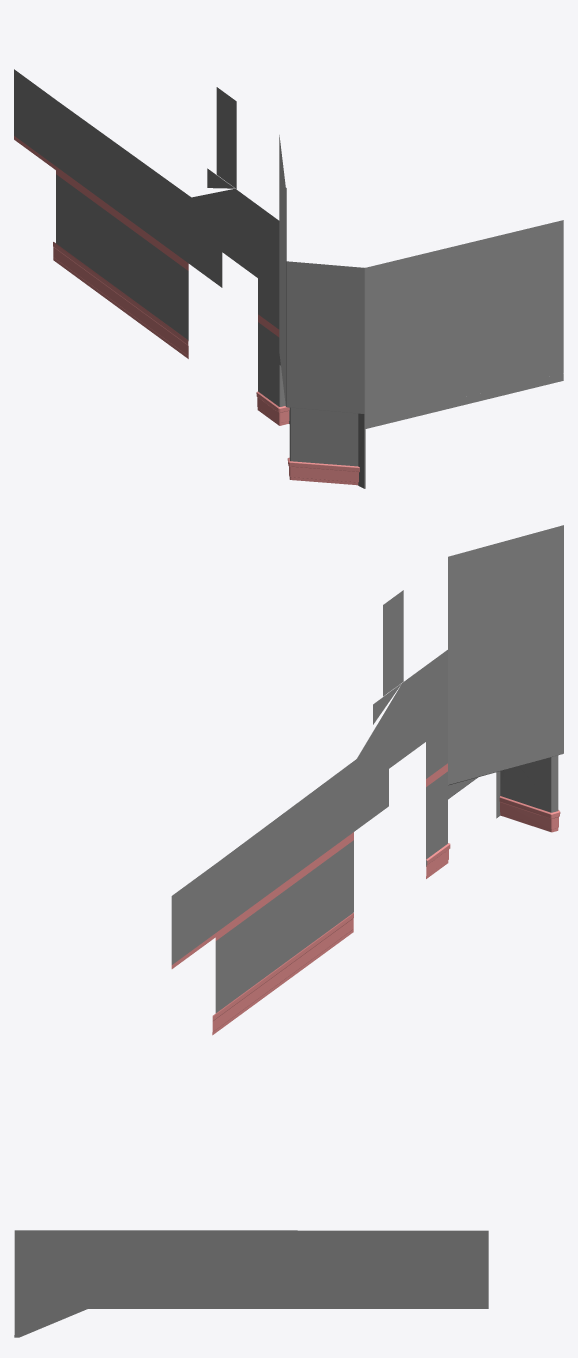
Rendered from S_Envi_Umeda_Building_20a.gltf.
3 renders of one model, top to bottom at view 1: azimuth 30°, elevation 25°; view 2: azimuth 150°, elevation 25°; view 3: azimuth 270°, elevation 25°, orthographic. The views are drawn at different scales.
Visible parts, largest first — view 1: S_Envi_Umeda_Building_20a; view 2: S_Envi_Umeda_Building_20a; view 3: S_Envi_Umeda_Building_20a.
Boxes of the visible parts, left/top/right/bottom form: S_Envi_Umeda_Building_20a: left=14, top=69, right=563, bottom=488; S_Envi_Umeda_Building_20a: left=171, top=525, right=563, bottom=1035; S_Envi_Umeda_Building_20a: left=14, top=1230, right=488, bottom=1337.
Size of the model in its own units: 17.35 by 19.42 by 42.01.
